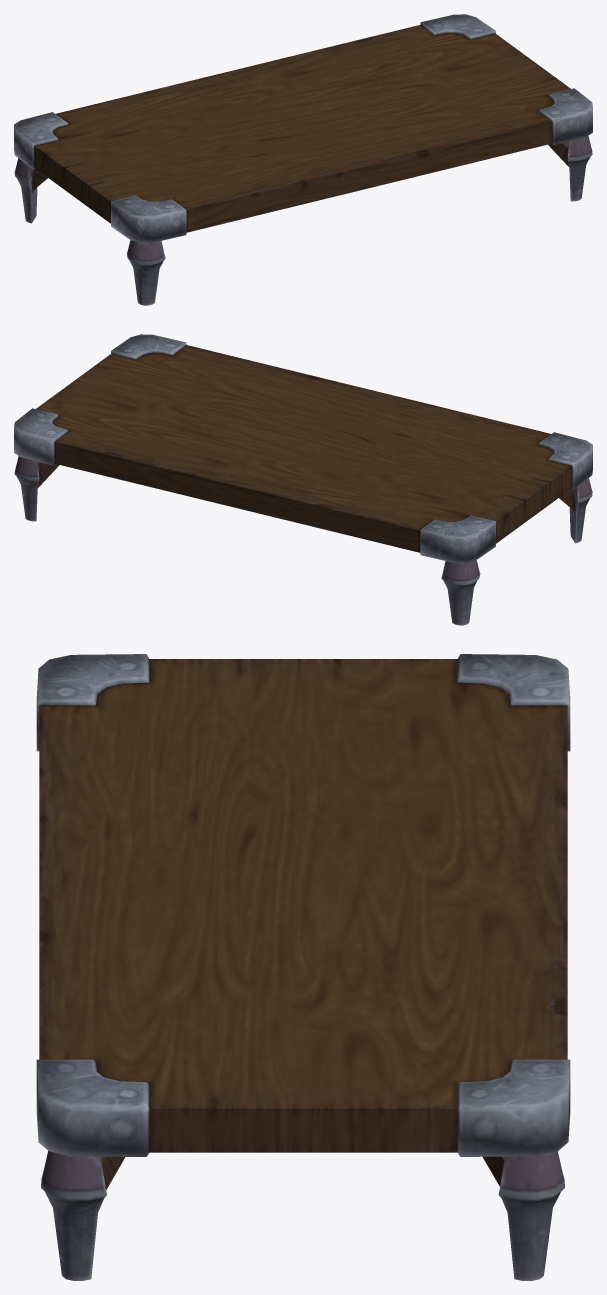
The model's file is sb_obj_DemonsCastle006_DiningTable01.fbx.
3 views of the same model, one above another, from view 1: azimuth 30°, elevation 25°; view 2: azimuth 150°, elevation 25°; view 3: azimuth 270°, elevation 25° (orthographic). The views are drawn at different scales.
Parts seen in each view (by area): view 1: sb_obj_DemonsCastle006_DiningTable01; view 2: sb_obj_DemonsCastle006_DiningTable01; view 3: sb_obj_DemonsCastle006_DiningTable01.
Part boxes in pixels (x1=…): sb_obj_DemonsCastle006_DiningTable01: x1=14, y1=14, x2=592, y2=305; sb_obj_DemonsCastle006_DiningTable01: x1=14, y1=334, x2=592, y2=625; sb_obj_DemonsCastle006_DiningTable01: x1=36, y1=654, x2=570, y2=1280.
Size of the model in its own units: 3.19 by 0.6108 by 1.59.
